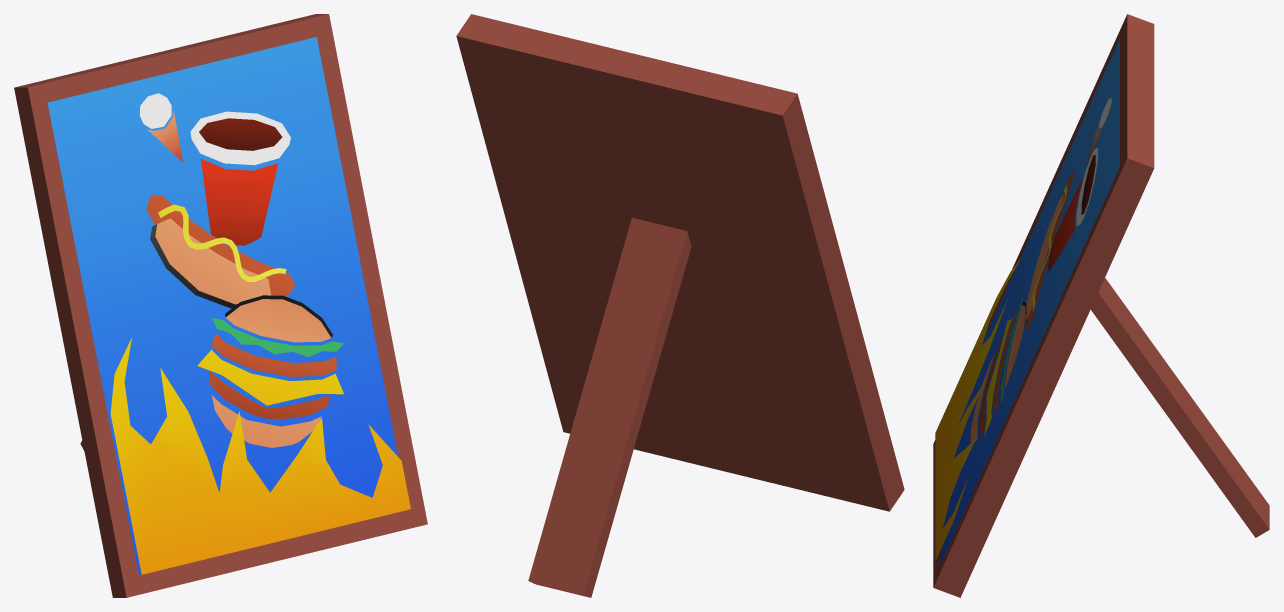
Rendered from Map02_Decor_Bienquangcao.fbx.
3 renders of one model, left to right at view 1: azimuth 30°, elevation 25°; view 2: azimuth 150°, elevation 25°; view 3: azimuth 270°, elevation 25°, orthographic. The views are drawn at different scales.
Parts seen in each view (by area): view 1: Map02_Decor_Bienquangcao; view 2: Map02_Decor_Bienquangcao; view 3: Map02_Decor_Bienquangcao.
Boxes of the visible parts, x1,y1,x2,y2 form: Map02_Decor_Bienquangcao: [14, 14, 427, 597]; Map02_Decor_Bienquangcao: [456, 14, 904, 597]; Map02_Decor_Bienquangcao: [933, 14, 1269, 597].
Size of the model in its own units: 219 by 312 by 216.
